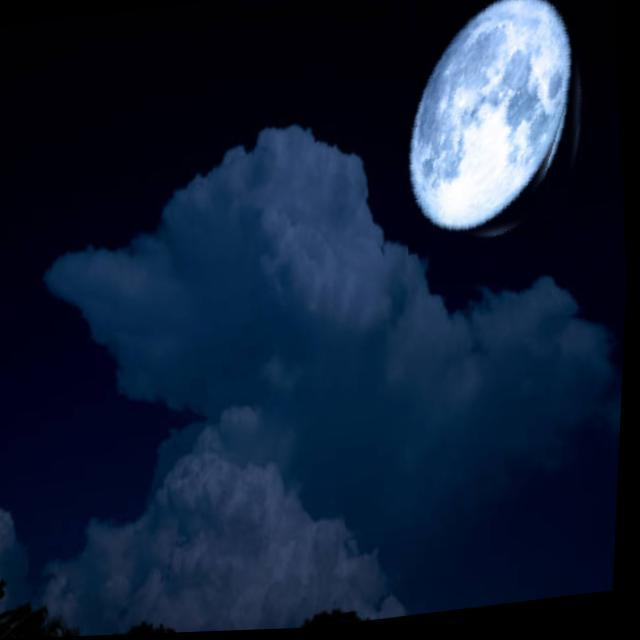moon: (388, 0, 610, 262)
